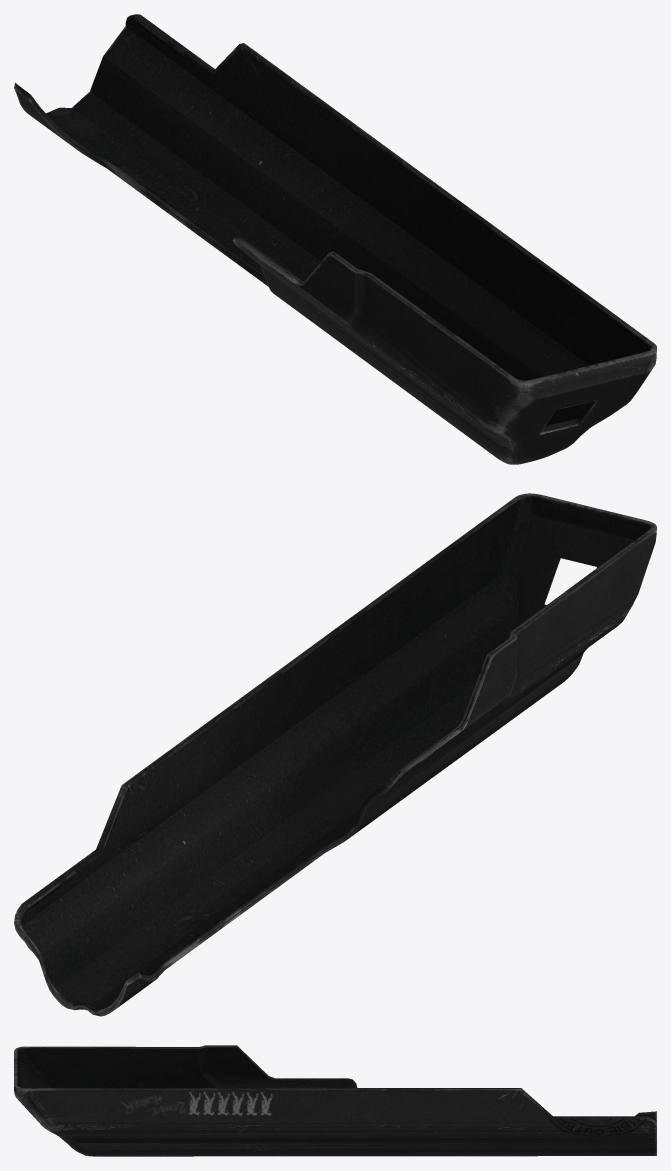
3 renders of one model, top to bottom at view 1: azimuth 30°, elevation 25°; view 2: azimuth 150°, elevation 25°; view 3: azimuth 270°, elevation 25°, orthographic. The views are drawn at different scales.
Parts seen in each view (by area): view 1: TW_676017fe8cfeeba9f707c8d6_PZ_Import; view 2: TW_676017fe8cfeeba9f707c8d6_PZ_Import; view 3: TW_676017fe8cfeeba9f707c8d6_PZ_Import.
Part boxes in pixels (x1,y1,x2,y2): TW_676017fe8cfeeba9f707c8d6_PZ_Import: (14, 14, 656, 464); TW_676017fe8cfeeba9f707c8d6_PZ_Import: (14, 493, 656, 1016); TW_676017fe8cfeeba9f707c8d6_PZ_Import: (14, 1045, 656, 1156).
Size of the model in its own units: 0.0223 by 0.1356 by 0.02.
1 material, 1 textured.
